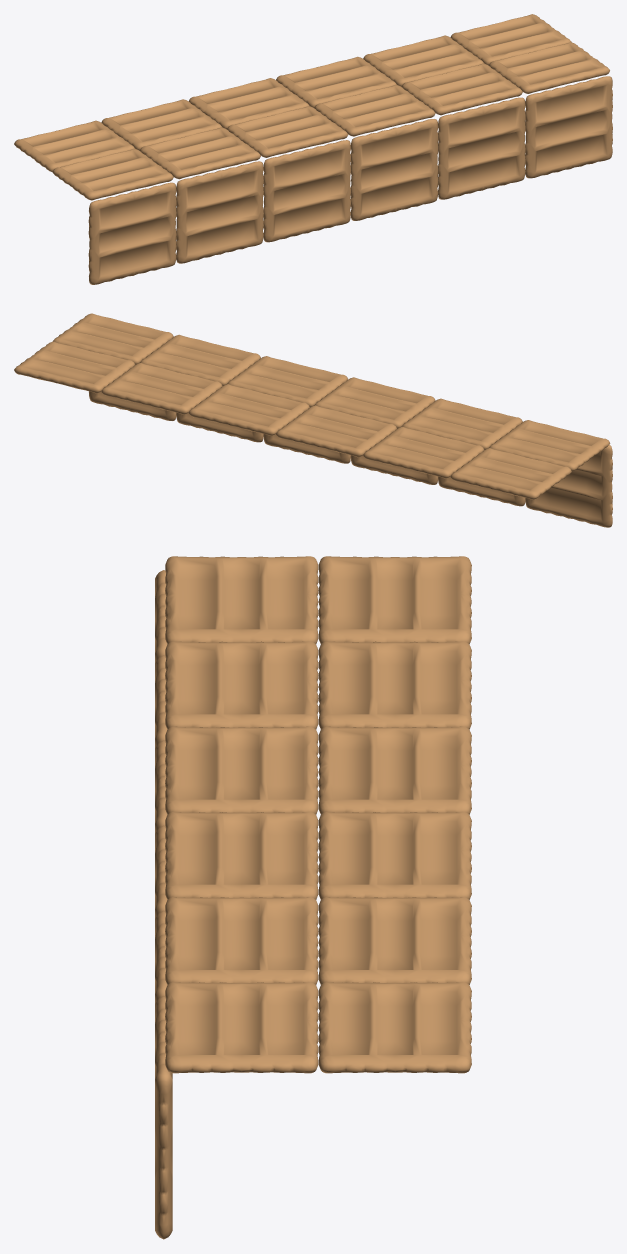
Rendered from cookie_respawn.fbx.
3 views of the same model, one above another, from view 1: azimuth 30°, elevation 25°; view 2: azimuth 150°, elevation 25°; view 3: azimuth 270°, elevation 25° (orthographic). The views are drawn at different scales.
Visible parts, largest first — view 1: 平面.007, 平面.008; view 2: 平面.008, 平面.007; view 3: 平面.008, 平面.007.
Boxes of the visible parts, box(x1,y1,x2,y2) form: 平面.007: box(88, 76, 612, 284); 平面.008: box(14, 14, 609, 200); 平面.008: box(14, 313, 610, 499); 平面.007: box(89, 391, 612, 527); 平面.008: box(165, 556, 471, 1073); 平面.007: box(155, 570, 172, 1239).
Bounding box in the file's own units: 171 × 28.39 × 44.91.
